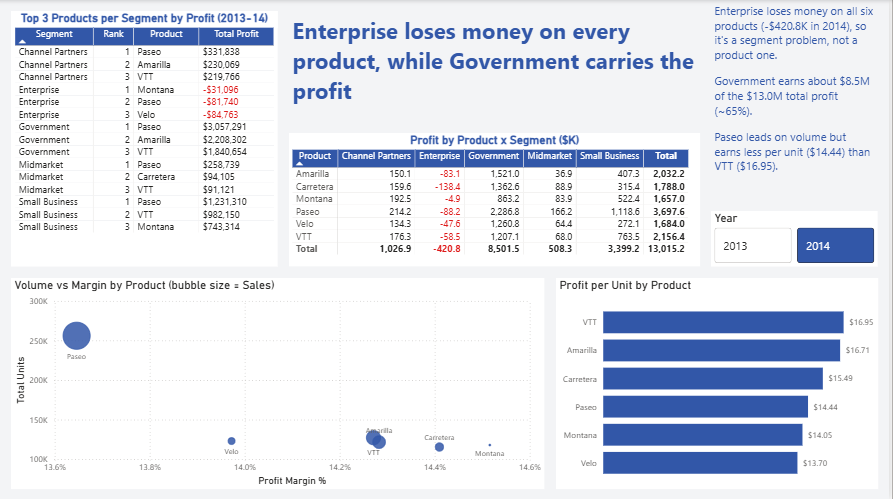

This screenshot's page, from the dashboard's own definition file:
{"tool":"powerbi","page":{"name":"Product deep-dive","canvas":[1280,720],"ordinal":2},"visuals":[{"type":"tableEx","title":"Top 3 Products per Segment by Profit (2013-14)","fields":{"Values":["top_3_products_per_segment.segment","Sum(top_3_products_per_segment.rnk)","top_3_products_per_segment.product","top_3_products_per_segment.total profit"]},"box":[16,16,384,368],"z":0},{"type":"scatterChart","title":"Volume vs Margin by Product (bubble size = Sales)","fields":{"X":["_Measures_.Profit Margin %"],"Y":["_Measures_.Total Units"],"Category":["Financials.product"],"Size":["_Measures_.Total Sales"]},"box":[16,400,768,304],"z":3000},{"type":"clusteredBarChart","title":"Profit per Unit by Product","fields":{"Category":["Financials.product"],"Y":["_Measures_.Profit per Unit"]},"box":[800,400,464,304],"z":4000},{"type":"pivotTable","title":"Profit by Product x Segment ($K)","fields":{"Rows":["Financials.product"],"Columns":["Financials.segment"],"Values":["_Measures_.Profit ($K)"]},"box":[416,192,592,192],"z":5000},{"type":"advancedSlicerVisual","fields":{"Values":["DateTable.Year"]},"box":[1024,304,240,80],"z":6000},{"type":"textbox","box":[416,16,592,160],"z":7000},{"type":"textbox","box":[1024,0,240,288],"z":8000}]}

Visuals, with their boxes in screenshot pixels (x1, y1, x2, y2), scaled from the page's 1280x720 canvas onto the 893x499 screenshot:
"Top 3 Products per Segment by Profit (2013-14)" tableEx: l=11, t=11, r=279, b=266
"Volume vs Margin by Product (bubble size = Sales)" scatterChart: l=11, t=277, r=547, b=488
"Profit per Unit by Product" clusteredBarChart: l=558, t=277, r=882, b=488
"Profit by Product x Segment ($K)" pivotTable: l=290, t=133, r=703, b=266
advancedSlicerVisual - DateTable.Year: l=714, t=211, r=882, b=266
textbox: l=290, t=11, r=703, b=122
textbox: l=714, t=0, r=882, b=200
